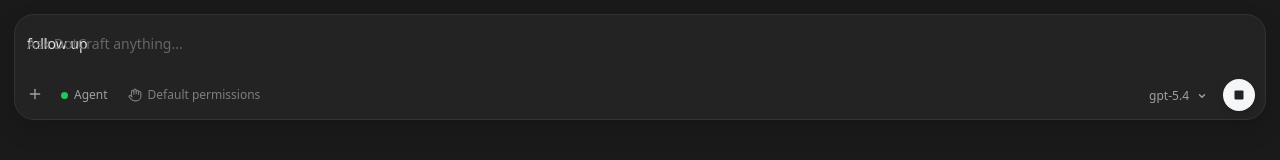
Test: InputComposer layout › shows the queued send action instead of stop while running with draft text
Step 1. Clear the field → coordinates (57, 44), box x1=27 y1=34 x2=88 y2=53
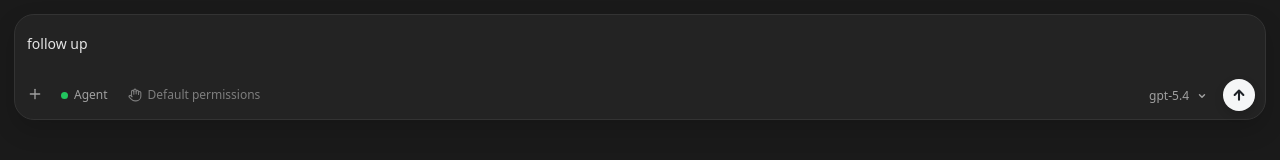
Check: the button named "Queue message" is shown, box x1=1223 y1=79 x2=1255 y2=111
